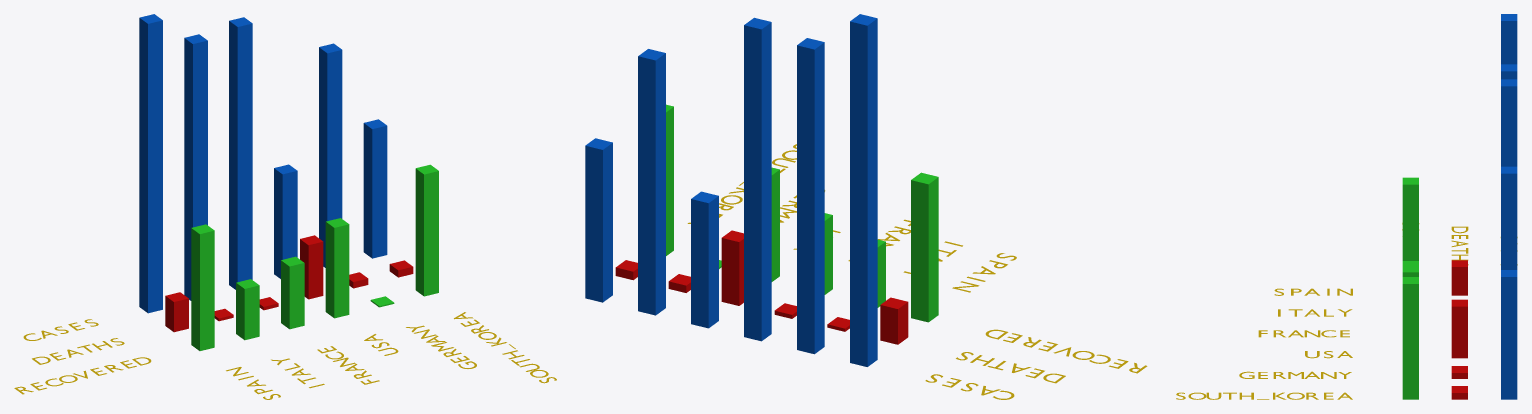
The model's file is sample.obj.
The picture shows the model from 3 angles, left to right: view 1: azimuth 30°, elevation 25°; view 2: azimuth 150°, elevation 25°; view 3: azimuth 270°, elevation 25°; orthographic projection. The views are drawn at different scales.
Parts seen in each view (by area): view 1: Spain_cases, France_cases, Italy_cases, Germany_cases, South Korea_cases, South Korea_recovered, Spain_recovered, USA_recovered, USA_cases, France_recovered, Italy_recovered, USA_deaths (+3 smaller); view 2: Spain_cases, France_cases, Italy_cases, Germany_cases, South Korea_cases, Spain_recovered, USA_cases, USA_deaths, Spain_deaths, South Korea_recovered, USA_recovered, RECOVERED (+2 smaller); view 3: South Korea_cases, South Korea_recovered, Germany_cases, France_cases, Spain_recovered, USA_deaths, Spain_cases, Spain_deaths, South Korea, Germany, France.
Boxes of the visible parts, box(x1,y1,x2,y2) form: Spain_cases: box(139, 14, 162, 313); France_cases: box(229, 17, 252, 289); Italy_cases: box(184, 34, 207, 300); Germany_cases: box(319, 43, 342, 267); South Korea_cases: box(363, 119, 387, 258); South Korea_recovered: box(415, 164, 438, 296); Spain_recovered: box(191, 224, 214, 350); USA_recovered: box(325, 218, 349, 318); USA_cases: box(274, 164, 297, 278); France_recovered: box(281, 256, 304, 329); Italy_recovered: box(236, 279, 259, 340); USA_deaths: box(300, 235, 323, 299); Spain_cases: box(850, 14, 877, 366); France_cases: box(744, 17, 771, 341); Italy_cases: box(797, 38, 824, 354); Germany_cases: box(638, 49, 665, 315); South Korea_cases: box(585, 138, 612, 302); Spain_recovered: box(911, 172, 938, 322); USA_cases: box(691, 191, 718, 328); USA_deaths: box(721, 230, 743, 305); Spain_deaths: box(880, 297, 908, 344); South Korea_recovered: box(666, 104, 673, 255); USA_recovered: box(771, 167, 779, 281); RECOVERED: box(985, 329, 1147, 373); South Korea_cases: box(1501, 270, 1517, 399); South Korea_recovered: box(1402, 277, 1418, 399); Germany_cases: box(1501, 166, 1517, 269); France_cases: box(1501, 79, 1517, 166); Spain_recovered: box(1402, 177, 1418, 260); USA_deaths: box(1451, 299, 1467, 358); Spain_cases: box(1501, 14, 1517, 64); Spain_deaths: box(1451, 260, 1467, 295); South Korea: box(1176, 392, 1352, 399); Germany: box(1239, 371, 1351, 378); France: box(1258, 330, 1349, 337).
Size of the model in its own units: 279 by 185 by 208.
